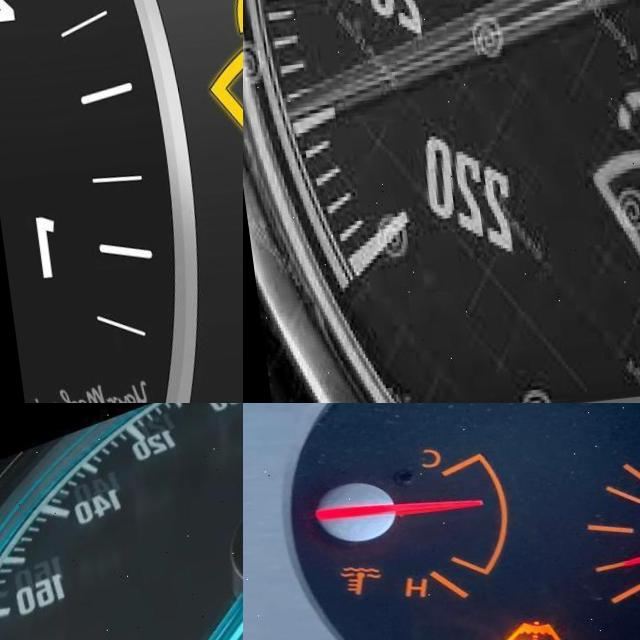Washer Fluid: (569, 88, 640, 334), (187, 0, 243, 201), (492, 622, 555, 640)
